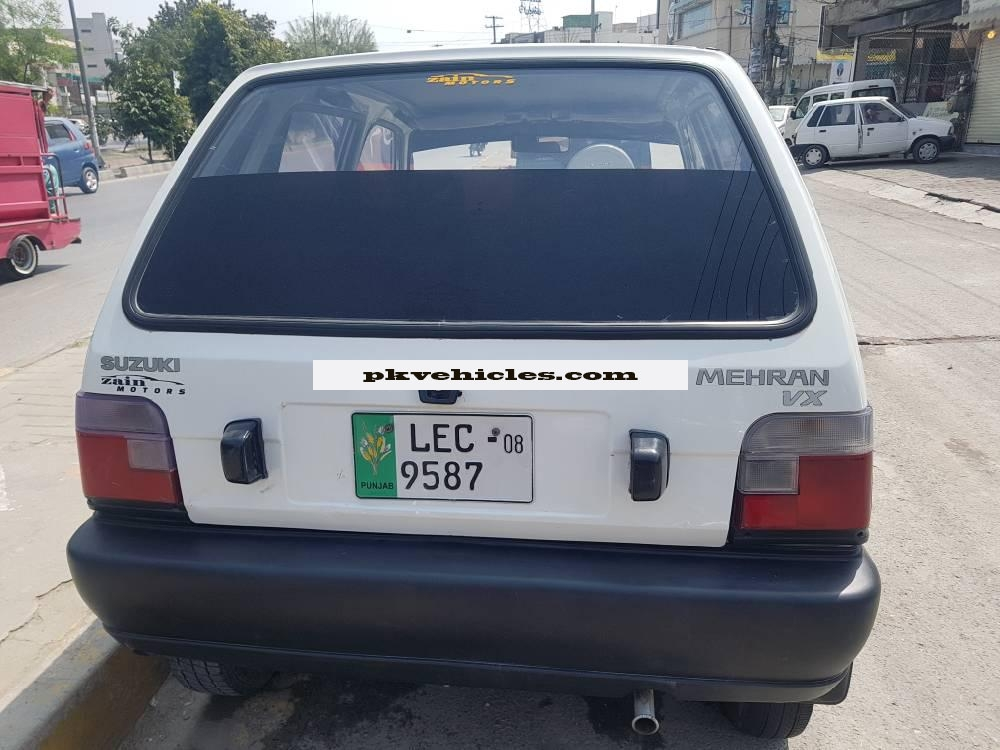plate: (348, 407, 537, 506)
